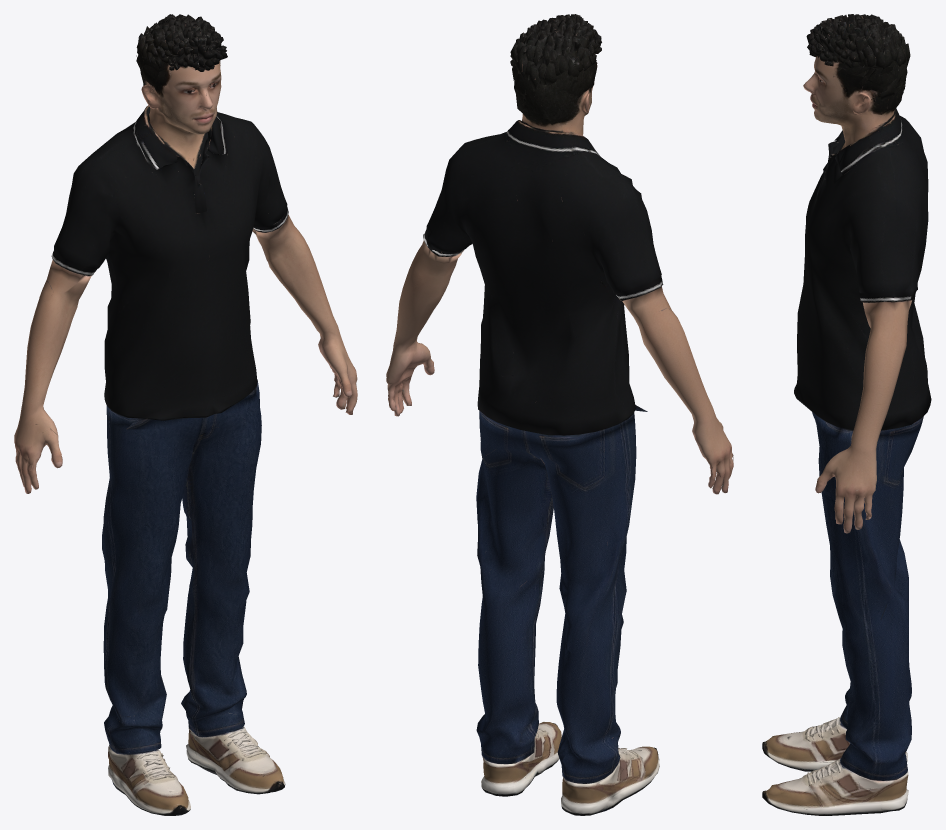
Rendered from Meshy_AI_Black_Polo_Casual_Look_20261023_texture.obj.
3 views of the same model, side by side, from view 1: azimuth 30°, elevation 25°; view 2: azimuth 150°, elevation 25°; view 3: azimuth 270°, elevation 25° (orthographic).
Visible parts, largest first — view 1: Meshy_AI_Black_Polo_Casual_Look_20261023_texture; view 2: Meshy_AI_Black_Polo_Casual_Look_20261023_texture; view 3: Meshy_AI_Black_Polo_Casual_Look_20261023_texture.
Part boxes in pixels (x1,y1,x2,y2): Meshy_AI_Black_Polo_Casual_Look_20261023_texture: (14,14,357,815); Meshy_AI_Black_Polo_Casual_Look_20261023_texture: (386,14,733,815); Meshy_AI_Black_Polo_Casual_Look_20261023_texture: (762,14,931,815).
Bounding box in the file's own units: 0.437 × 0.9497 × 0.1895.
Materials: 1 (1 with a texture image).
